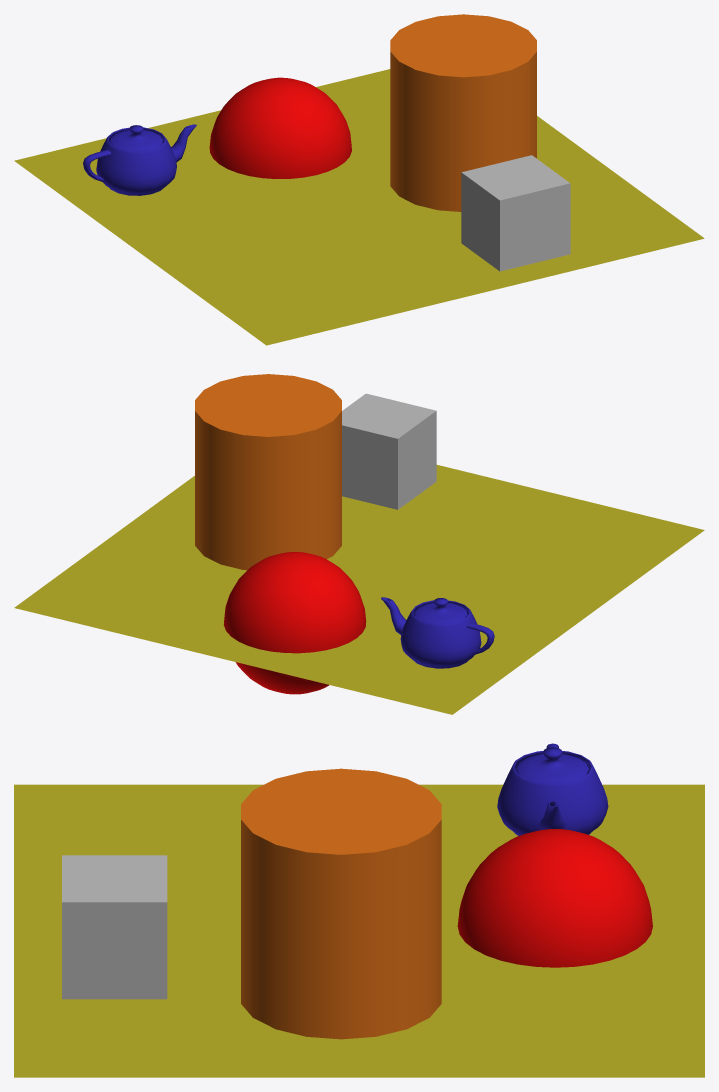
File: simples_com_chao.obj
3 renders of one model, top to bottom at view 1: azimuth 30°, elevation 25°; view 2: azimuth 150°, elevation 25°; view 3: azimuth 270°, elevation 25°, orthographic. The views are drawn at different scales.
Parts seen in each view (by area): view 1: Plane001, Cylinder001, Sphere001, Box001, Teapot001; view 2: Plane001, Cylinder001, Sphere001, Box001, Teapot001; view 3: Plane001, Cylinder001, Sphere001, Box001, Teapot001.
Boxes of the visible parts, x1,y1,x2,y2 form: Plane001: (14,69,704,345); Cylinder001: (390,14,536,211); Sphere001: (209,77,351,178); Box001: (461,155,570,271); Teapot001: (83,124,196,195); Plane001: (14,465,704,714); Cylinder001: (195,374,341,570); Sphere001: (224,552,366,694); Box001: (342,393,436,509); Teapot001: (381,597,494,668); Plane001: (14,784,704,1077); Cylinder001: (241,768,441,1039); Sphere001: (457,829,652,967); Box001: (62,855,167,999); Teapot001: (497,743,608,835).
Size of the model in its own units: 140 by 60.75 by 139.
